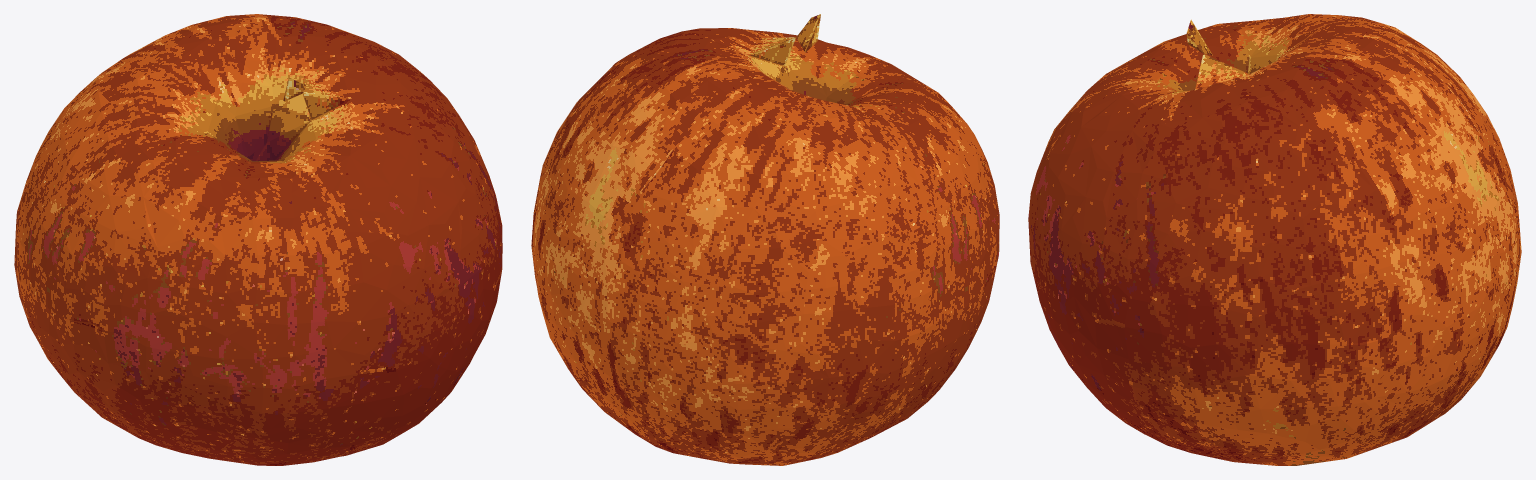
File: apple.glb
3 views of the same model, side by side, from view 1: azimuth 30°, elevation 25°; view 2: azimuth 150°, elevation 25°; view 3: azimuth 270°, elevation 25° (orthographic). The views are drawn at different scales.
Parts seen in each view (by area): view 1: model_m; view 2: model_m; view 3: model_m.
Part boxes in pixels (x1,y1,x2,y2): model_m: (14, 14, 502, 465); model_m: (531, 14, 999, 465); model_m: (1028, 14, 1521, 465).
Size of the model in its own units: 33.94 by 30 by 34.
1 material, 1 textured.
